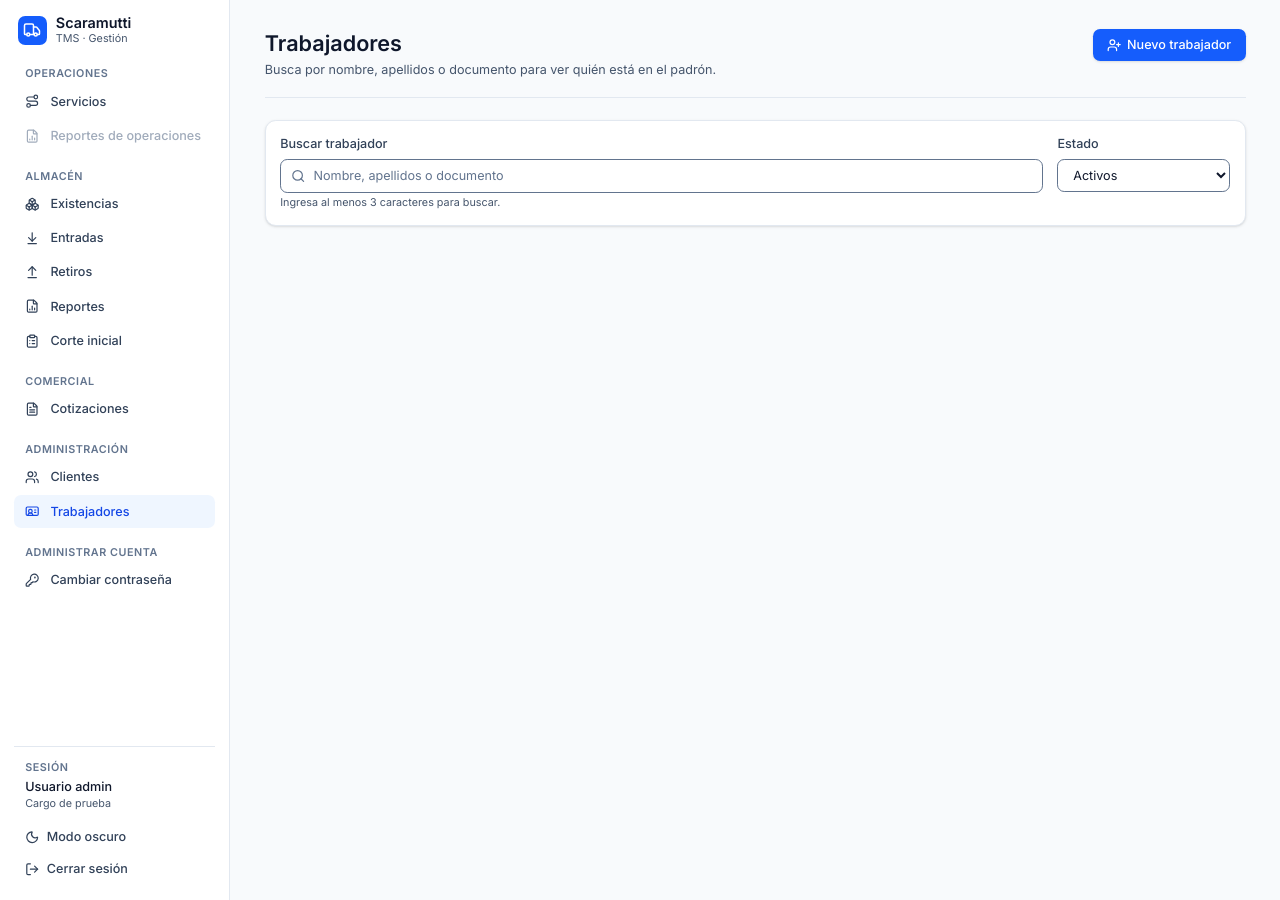
Test case: router - URL viejas y la raíz del dominio › padrón de trabajadores › desde la búsqueda, la fila lleva a la ficha con los datos del endpoint
Step 1. Type "ana" into the search field labelled "Buscar trabajador" → (662, 176), box [280,158,1043,193]
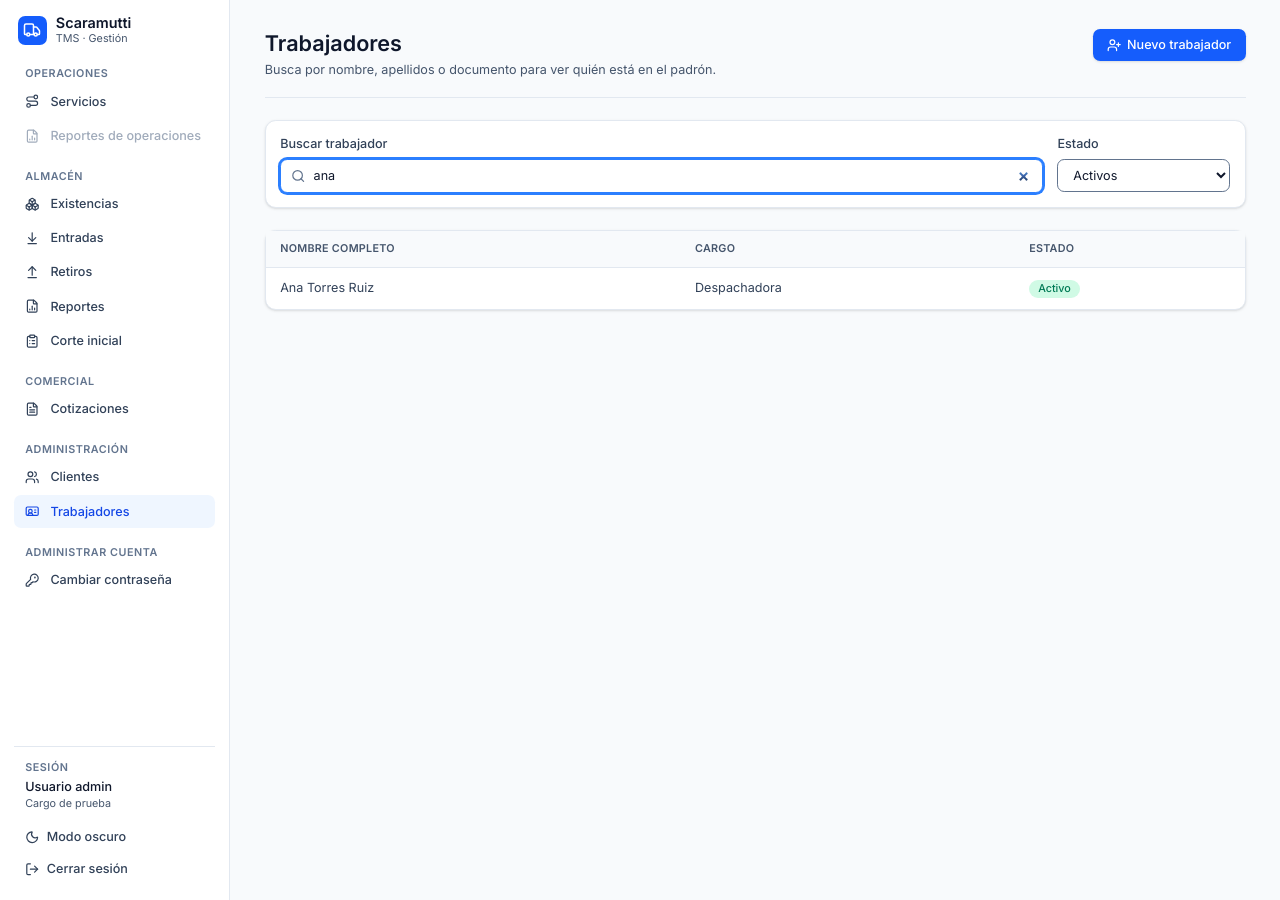
Step 2. Click the button with aria-label "ver la ficha de ana torres ruiz" → (755, 288), box [266,268,1245,309]
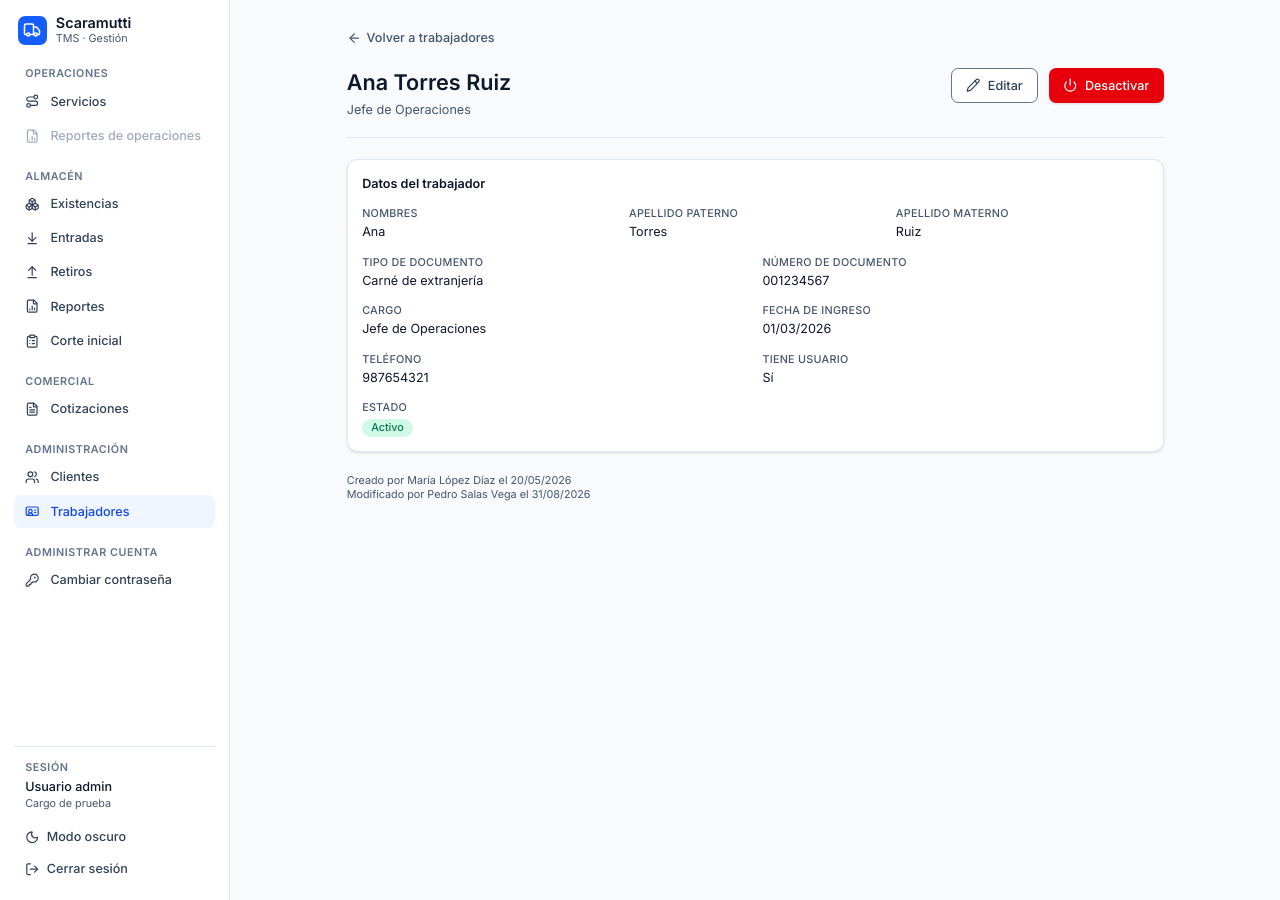
Expected: the heading "Ana Torres Ruiz" is shown, [347,68,511,97]
Expected: the button "Despachadora" is gone
